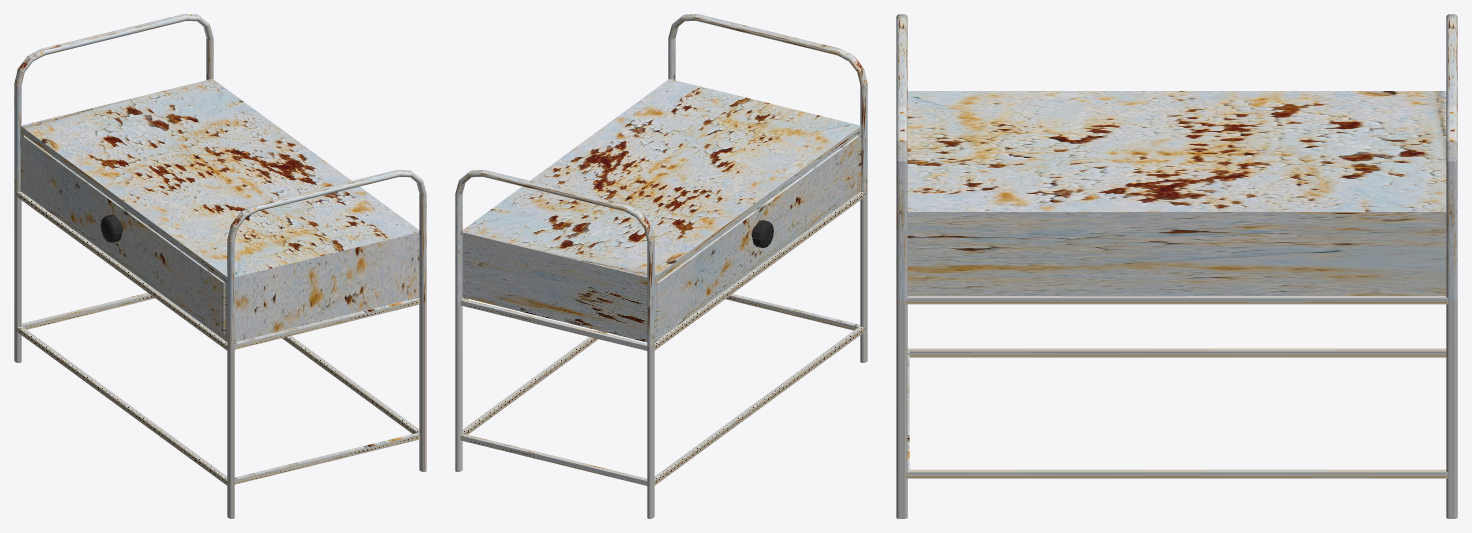
The model's file is TUMBASMALL.fbx.
3 renders of one model, left to right at view 1: azimuth 30°, elevation 25°; view 2: azimuth 150°, elevation 25°; view 3: azimuth 270°, elevation 25°, orthographic. The views are drawn at different scales.
Parts seen in each view (by area): view 1: TUMBABOLNICA.006; view 2: TUMBABOLNICA.006; view 3: TUMBABOLNICA.006.
Part boxes in pixels (x1,y1,x2,y2): TUMBABOLNICA.006: (14, 14, 426, 518); TUMBABOLNICA.006: (455, 14, 867, 518); TUMBABOLNICA.006: (896, 14, 1457, 518).
Size of the model in its own units: 249 by 346 by 446.
Materials: 2 (1 with a texture image).
